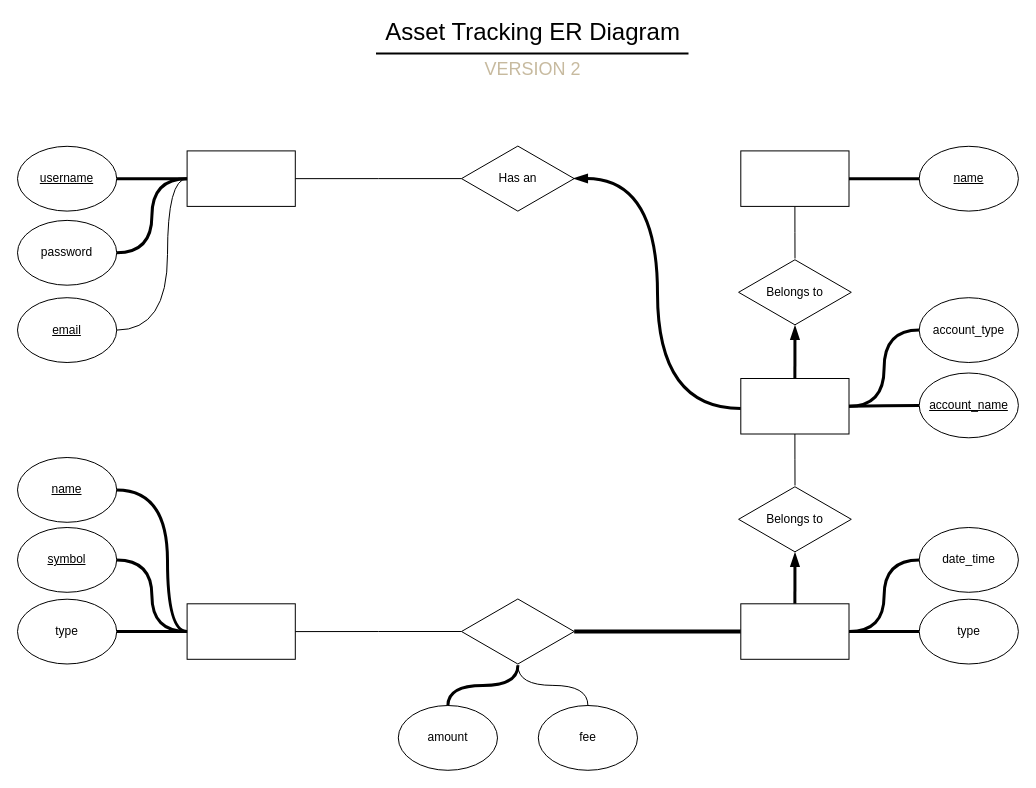
Image size: 1036x788. Some labels were removed from this diagram. Here are the shapes that lost their labels. From the top down, the box of each, then its label:
(186, 150, 295, 206): User
(740, 150, 849, 206): Exchange
(740, 378, 849, 434): Account
(186, 603, 295, 659): Asset
(460, 597, 574, 665): Transacts with
(740, 603, 849, 659): Transaction
